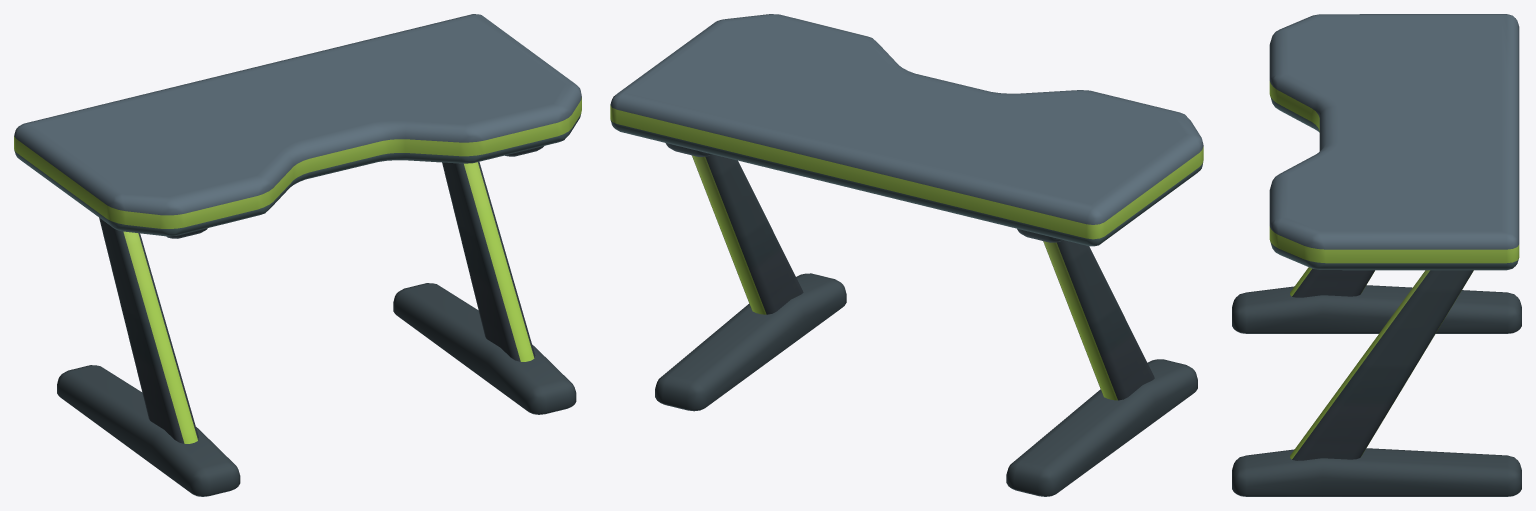
The model's file is Work_Table_07.glb.
The picture shows the model from 3 angles, left to right: view 1: azimuth 30°, elevation 25°; view 2: azimuth 150°, elevation 25°; view 3: azimuth 270°, elevation 25°; orthographic projection. The views are drawn at different scales.
Parts seen in each view (by area): view 1: Work_Table_07; view 2: Work_Table_07; view 3: Work_Table_07.
Part boxes in pixels (x1,y1,x2,y2): Work_Table_07: (14, 14, 581, 496); Work_Table_07: (610, 14, 1203, 496); Work_Table_07: (1232, 14, 1521, 496).
Bounding box in the file's own units: 1.3 × 0.746 × 0.6971.
Materials: 1 (1 with a texture image).
